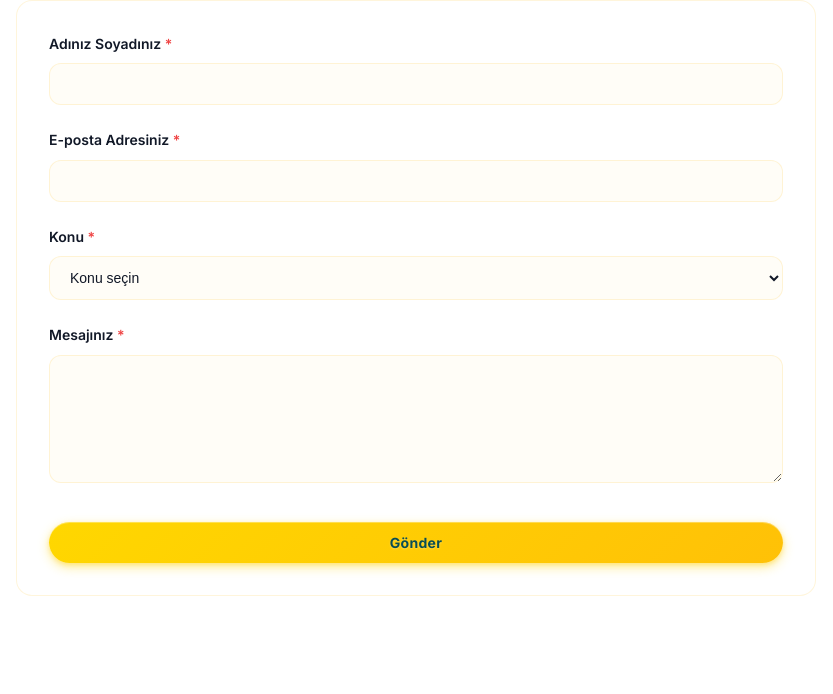
Test: ContactForm › shows success message after successful submission
Type "Test User" into the field labelled "Adınız Soyadınız *".
click(416, 84); type("Test User")  # box [49, 63, 783, 105]
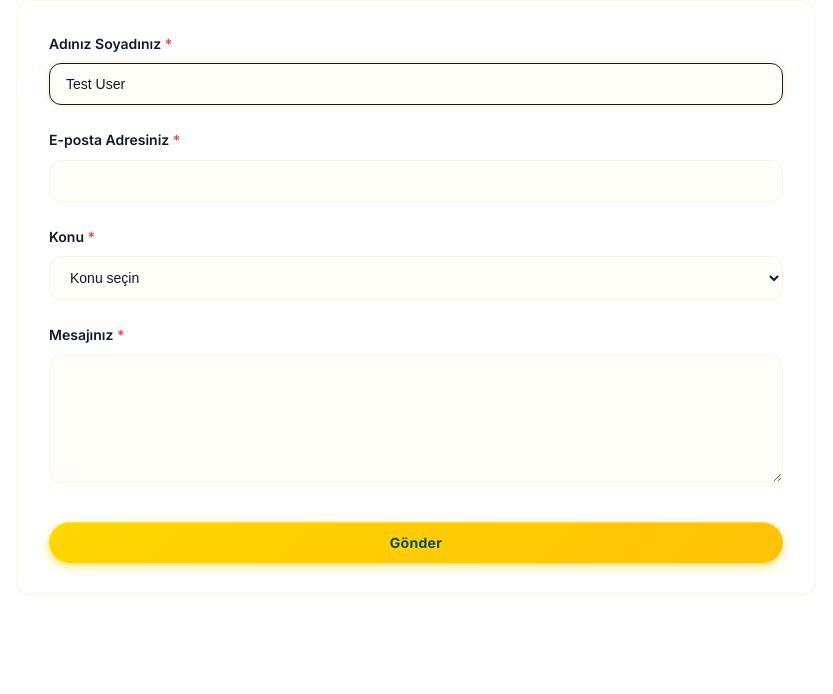
Type "test@example.com" into the field labelled "E-posta Adresiniz *".
click(416, 181); type("test@example.com")  # box [49, 160, 783, 202]
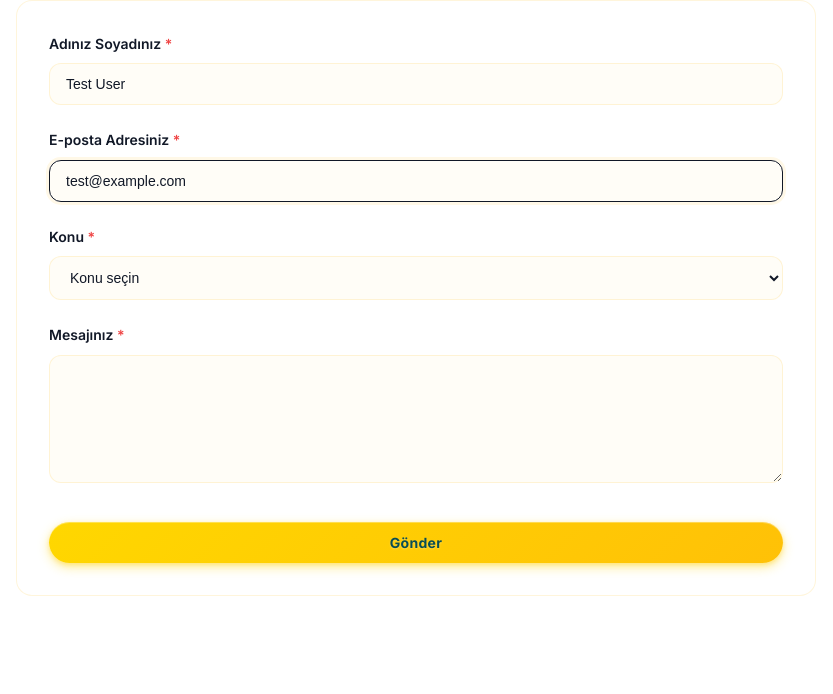
Select "Genel Bilgi" in the dropdown labelled "Konu *" at (416, 278), box [49, 256, 783, 300]
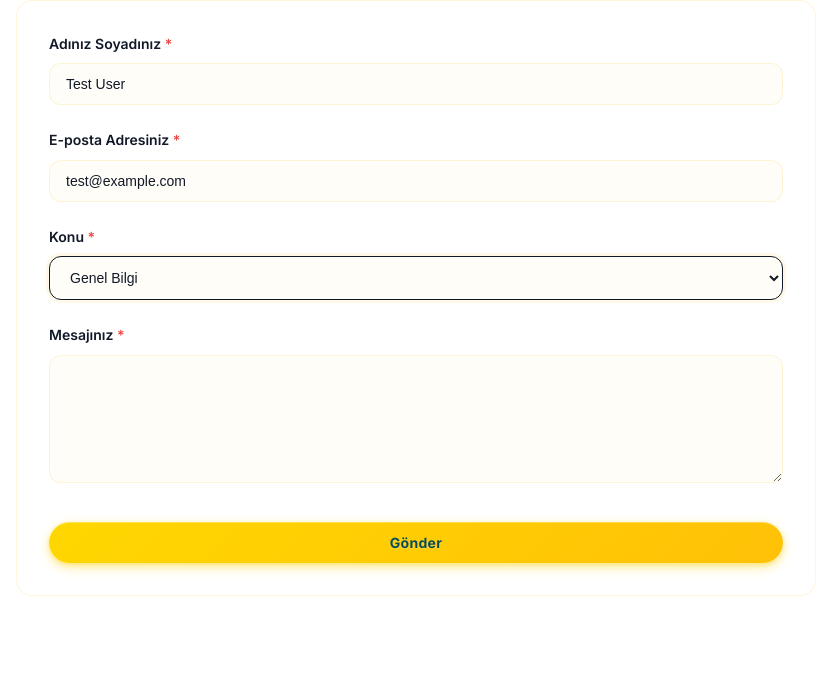
Type "Test message" into the text box labelled "Mesajınız *".
click(416, 419); type("Test message")  # box [49, 355, 783, 483]
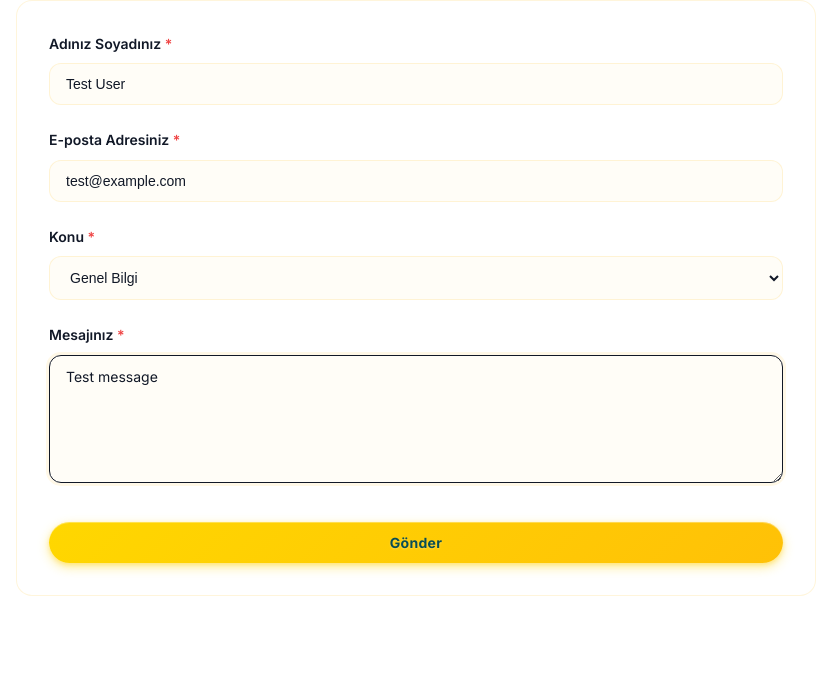
Click the button "Gönder".
click(416, 543)  # box [49, 522, 783, 563]
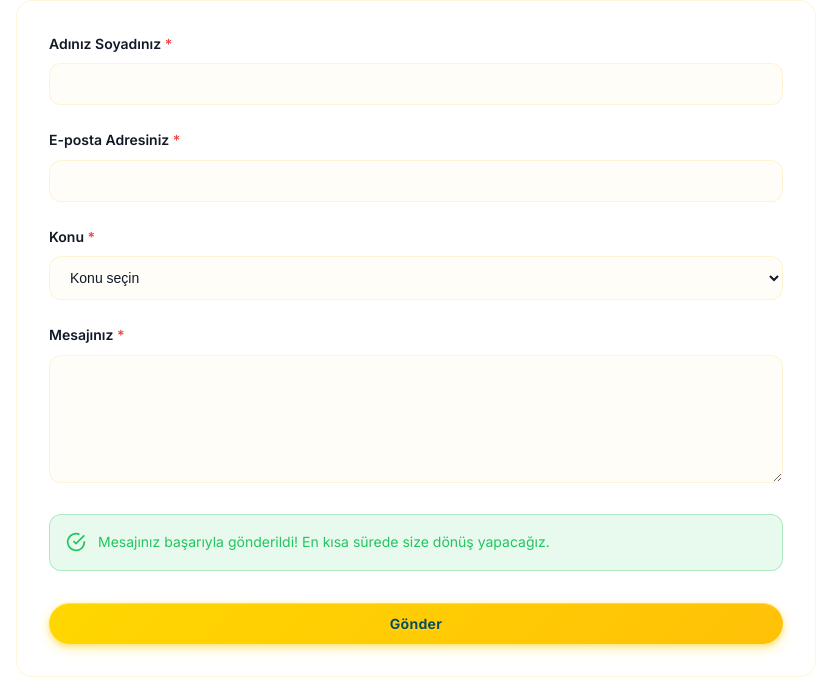
expect the text "Mesajınız başarıyla gönderildi! En kısa sürede size dönüş yapacağız." is shown: met, box [49, 514, 783, 571]
